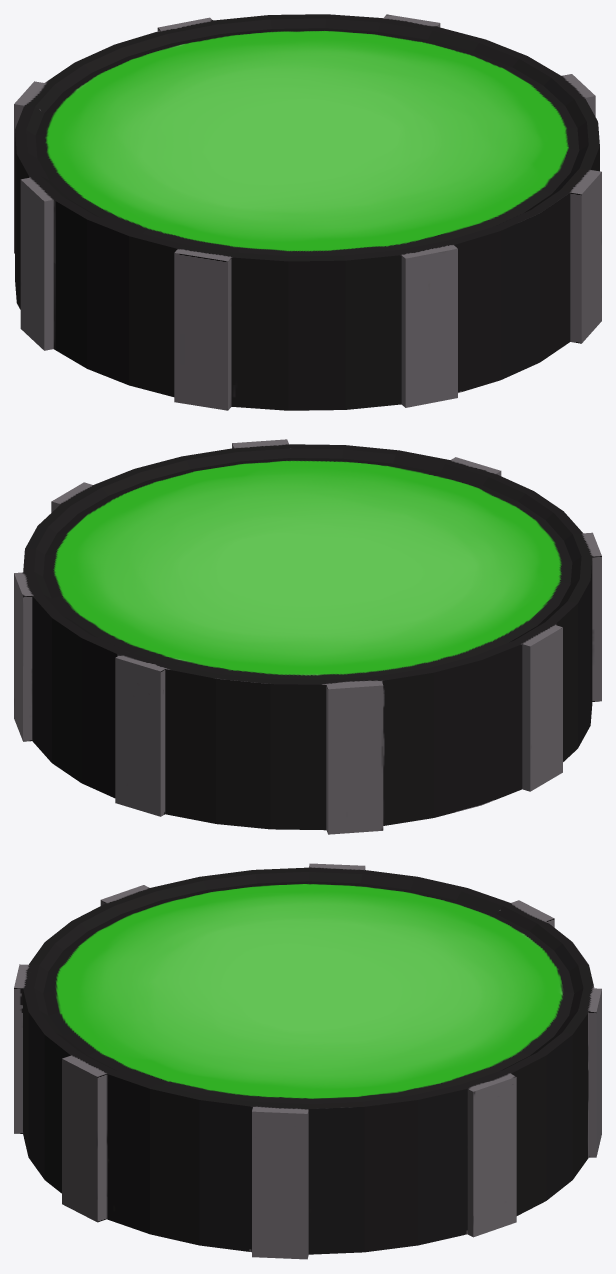
File: Drums.fbx
3 renders of one model, top to bottom at view 1: azimuth 30°, elevation 25°; view 2: azimuth 150°, elevation 25°; view 3: azimuth 270°, elevation 25°, orthographic. The views are drawn at different scales.
Visible parts, largest first — view 1: Cylinder; view 2: Cylinder; view 3: Cylinder.
Boxes of the visible parts, x1=… form: Cylinder: x1=14, y1=14, x2=601, y2=410; Cylinder: x1=14, y1=439, x2=601, y2=834; Cylinder: x1=14, y1=863, x2=601, y2=1259.
Size of the model in its own units: 216 by 58.79 by 214.
